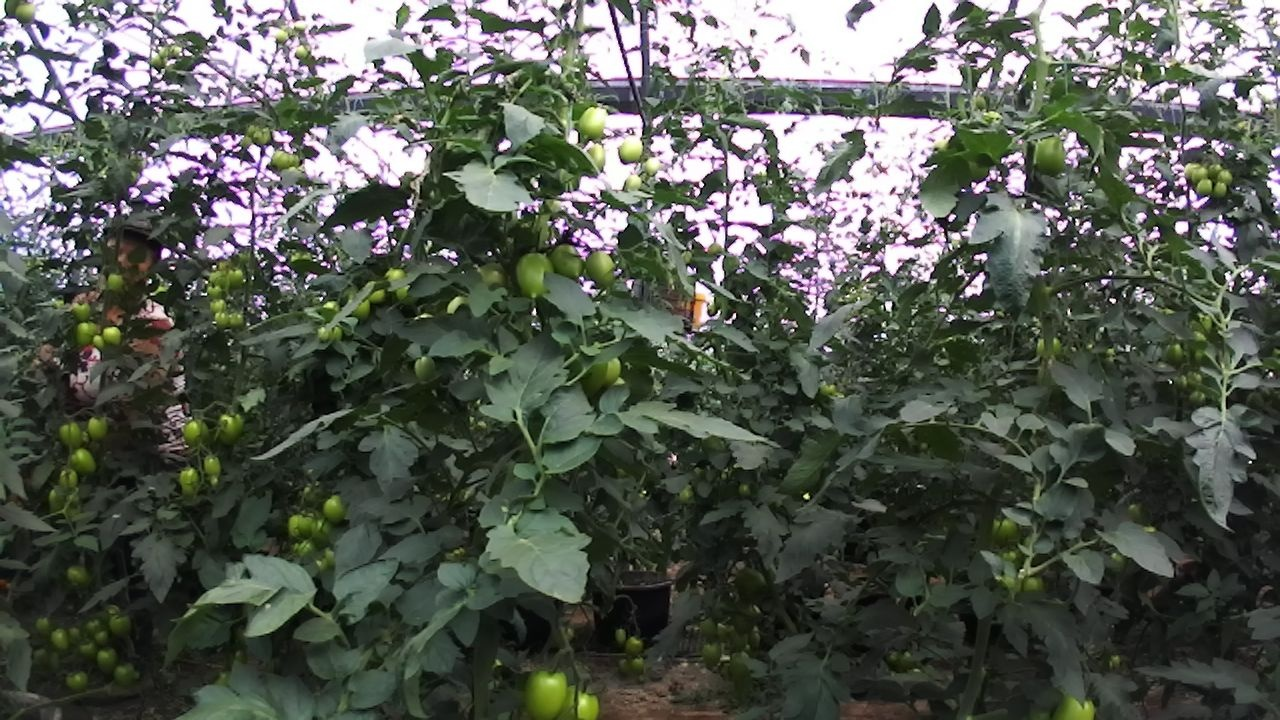tomato: (516, 661, 576, 720), (510, 242, 558, 308), (543, 234, 593, 290), (1026, 130, 1078, 182), (579, 240, 626, 295), (552, 675, 609, 720), (1044, 684, 1115, 720), (570, 97, 617, 147), (982, 509, 1026, 551), (612, 127, 650, 173), (731, 563, 771, 605), (214, 406, 247, 449), (61, 446, 103, 479), (1030, 329, 1066, 365), (196, 451, 230, 489), (51, 460, 86, 496), (319, 489, 350, 527), (178, 414, 211, 449), (306, 514, 338, 550), (82, 409, 113, 446), (346, 289, 376, 326), (175, 463, 204, 501), (108, 659, 141, 691), (100, 265, 131, 298), (293, 509, 327, 539), (57, 417, 86, 452), (583, 140, 610, 177), (92, 644, 122, 677), (363, 276, 391, 311), (409, 352, 440, 383), (64, 563, 97, 592), (382, 263, 411, 296), (70, 318, 100, 349), (98, 320, 129, 350), (105, 611, 138, 639), (10, 0, 41, 29), (619, 169, 647, 201), (1020, 570, 1049, 600), (267, 144, 294, 176), (62, 666, 93, 693), (696, 613, 723, 643), (698, 639, 724, 670), (46, 626, 73, 654), (621, 632, 647, 660), (639, 153, 664, 180), (31, 613, 56, 640), (68, 300, 95, 324), (76, 636, 100, 660), (206, 295, 231, 318), (1193, 174, 1216, 199), (627, 654, 651, 677), (1188, 164, 1211, 188), (210, 309, 233, 332), (225, 308, 246, 333), (91, 627, 114, 648), (225, 266, 246, 288), (202, 282, 225, 302), (1209, 179, 1228, 202), (1215, 167, 1235, 186), (91, 332, 106, 349)
